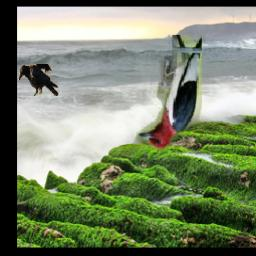Crow: (18, 64, 58, 96)
Woodpecker: (138, 35, 203, 150)
